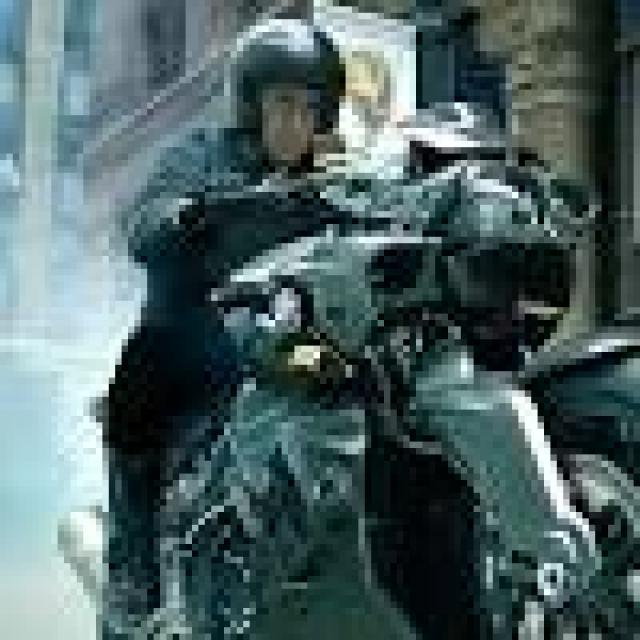Bike: (77, 148, 640, 640)
